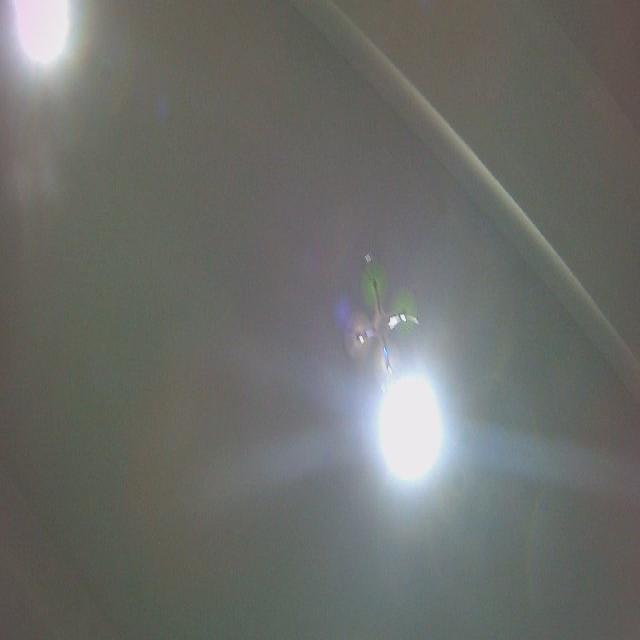drone: (338, 249, 423, 396)
